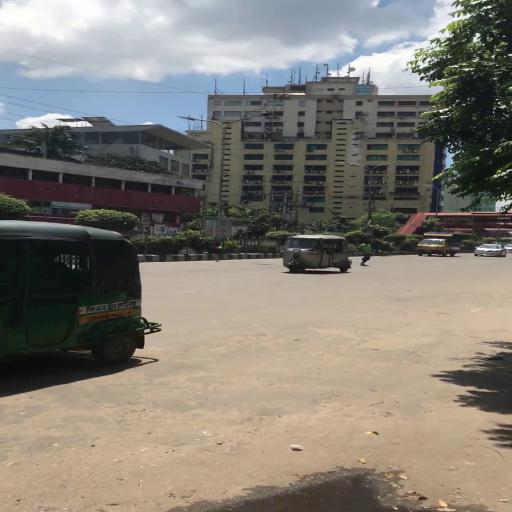car: (473, 244, 508, 258)
pickup: (417, 232, 463, 257)
three wheelers (CNG): (3, 219, 166, 366), (281, 234, 354, 275)
